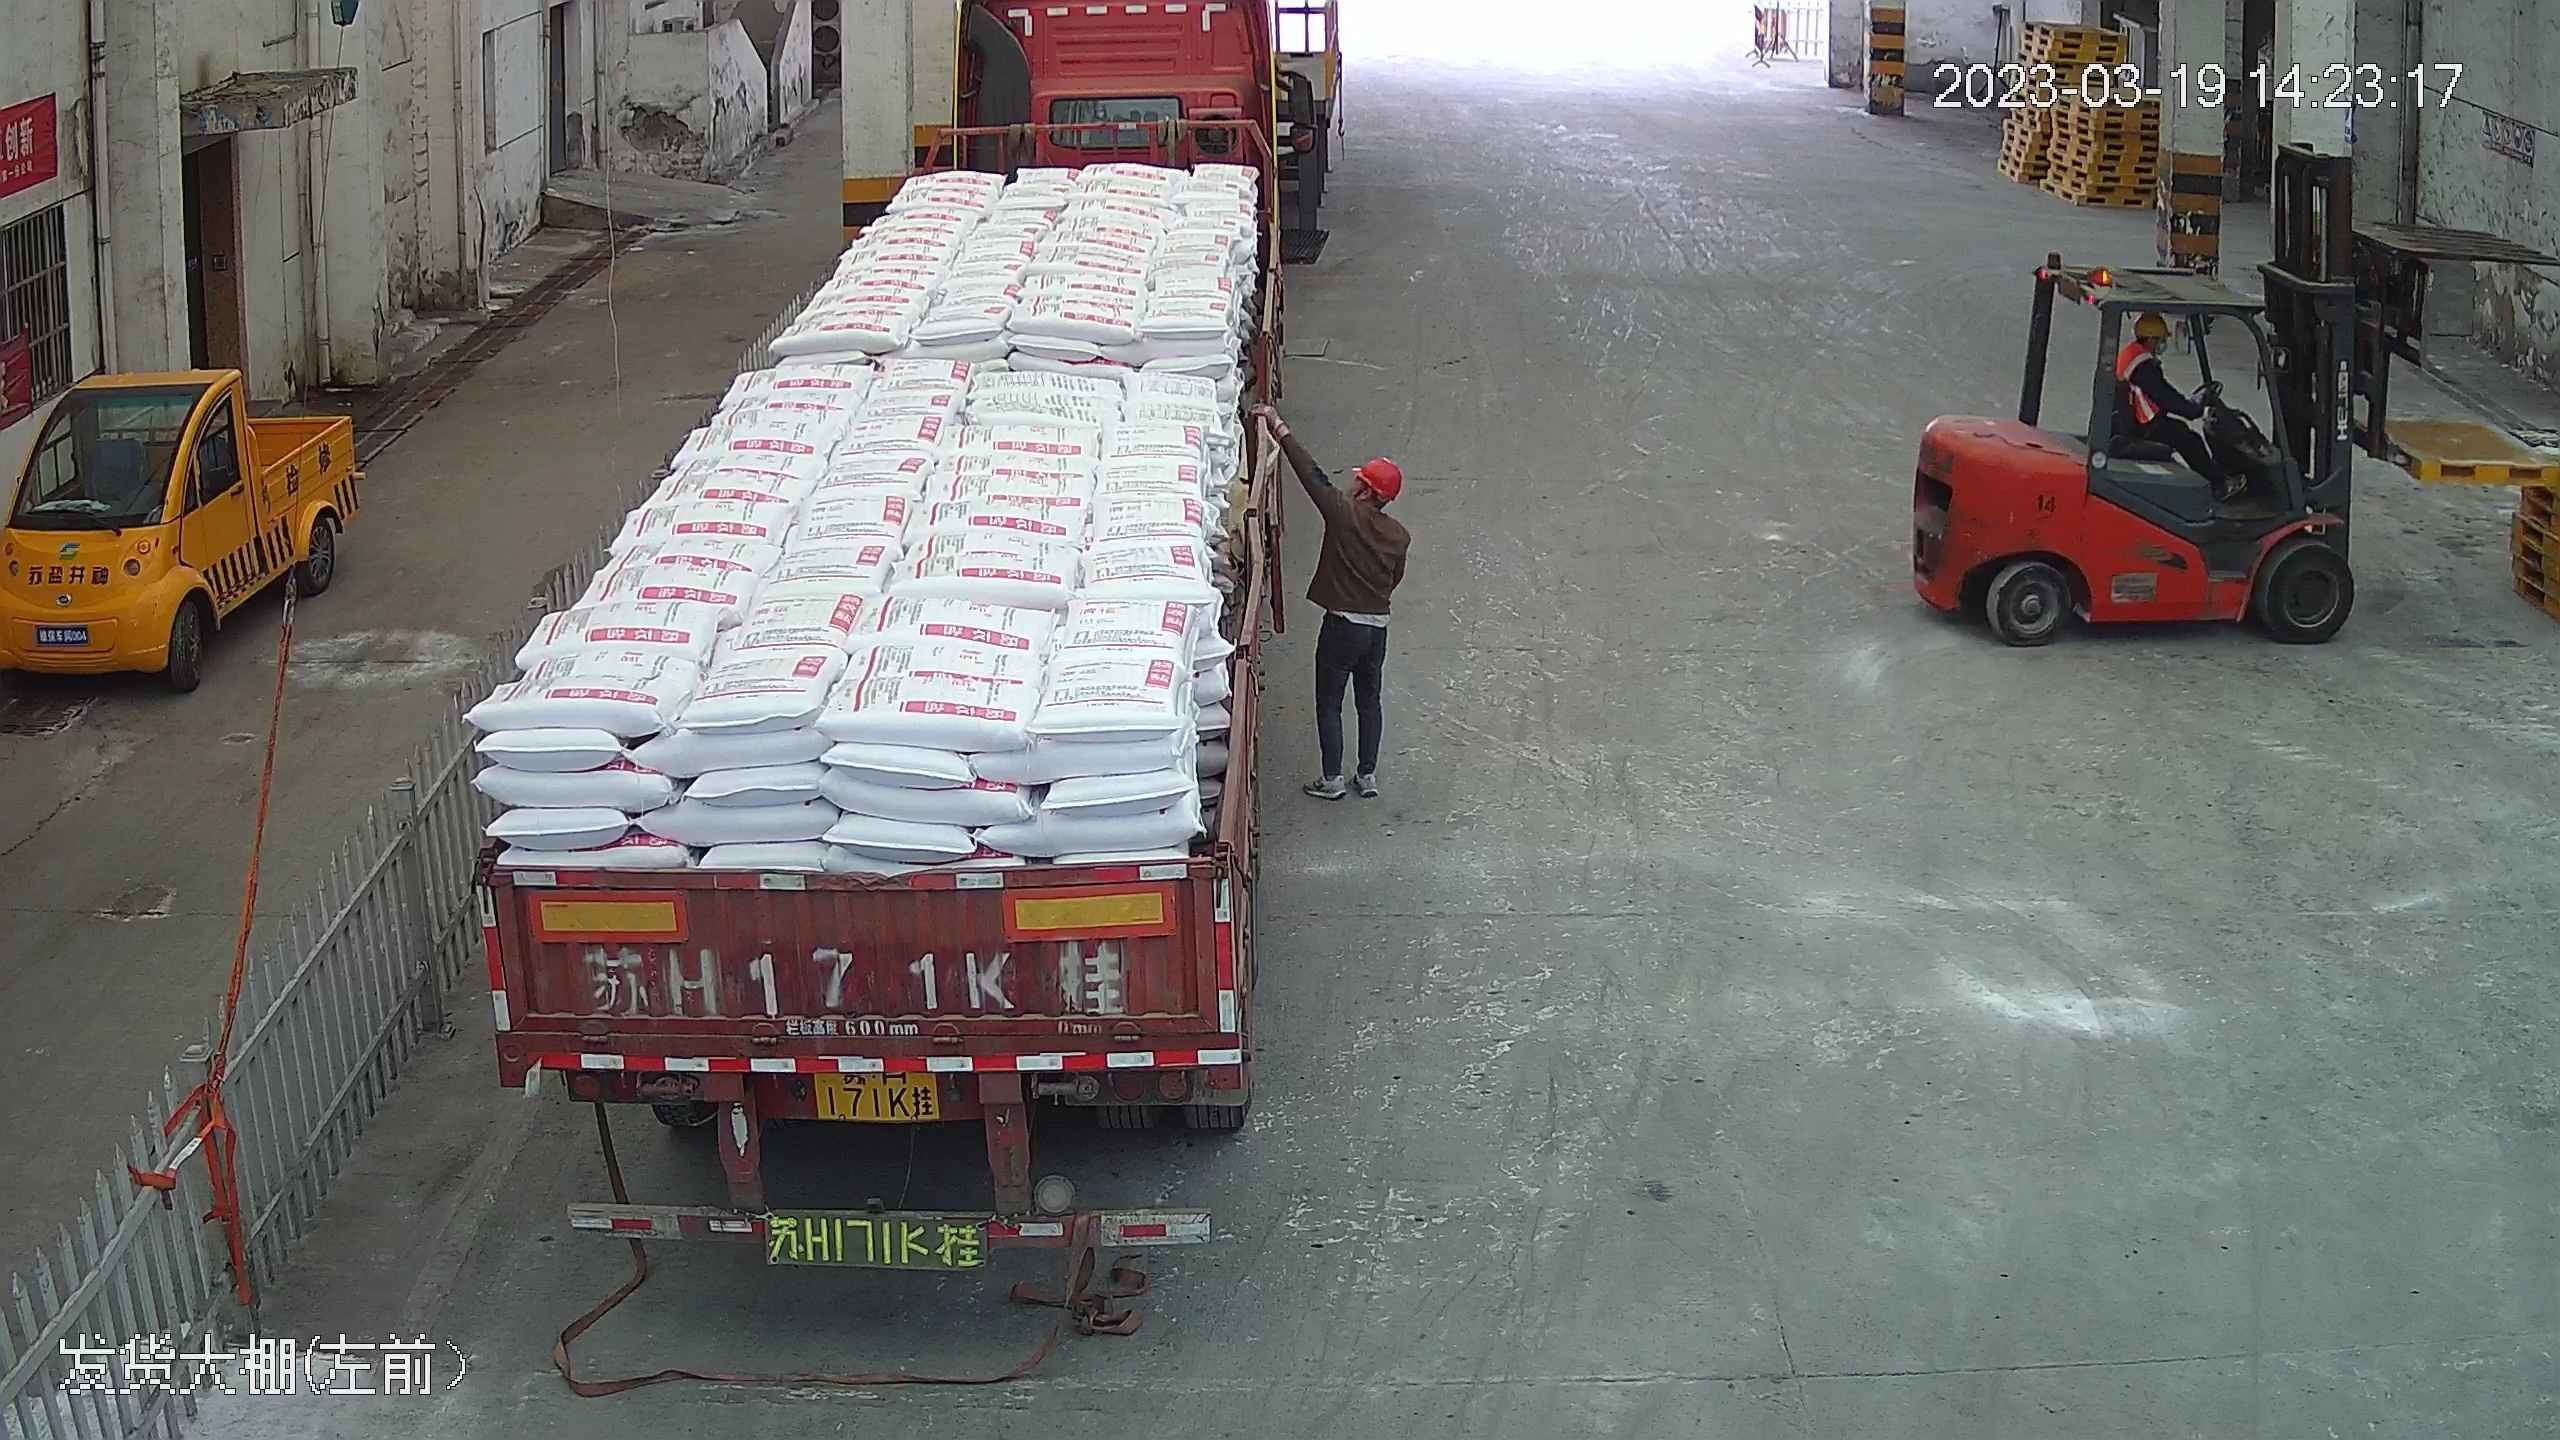head: (1320, 454, 1411, 551), (2115, 309, 2183, 391)
helmet: (1352, 455, 1403, 495), (2133, 310, 2176, 342)
people: (1300, 450, 1414, 801), (2108, 306, 2231, 503)
truck: (431, 3, 1301, 1283)
